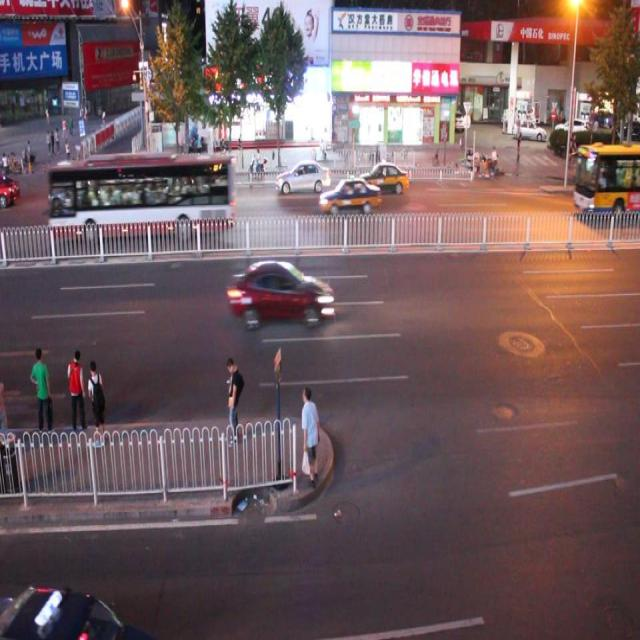car: (46, 152, 235, 237), (0, 578, 158, 640), (227, 260, 333, 328), (319, 174, 380, 215), (274, 159, 328, 194), (49, 177, 100, 213), (354, 161, 407, 195), (182, 160, 228, 198), (157, 174, 195, 210), (1, 168, 20, 209)
van: (571, 142, 640, 222)
